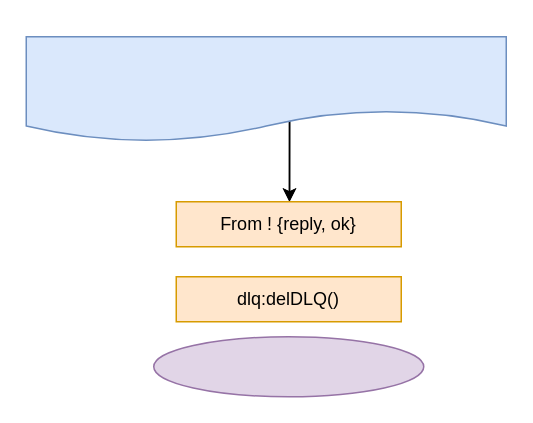
The diagram is 533 pixels wide and 423 high, and some of its shapes have lost their labels. The centre of each missing label's shape, as x and y in pixels:
return: (288,366)
Start von {request, dellHBQ} Rückgabewert: bei Erfolg wird ok zurückgeliefert: (265,88)
